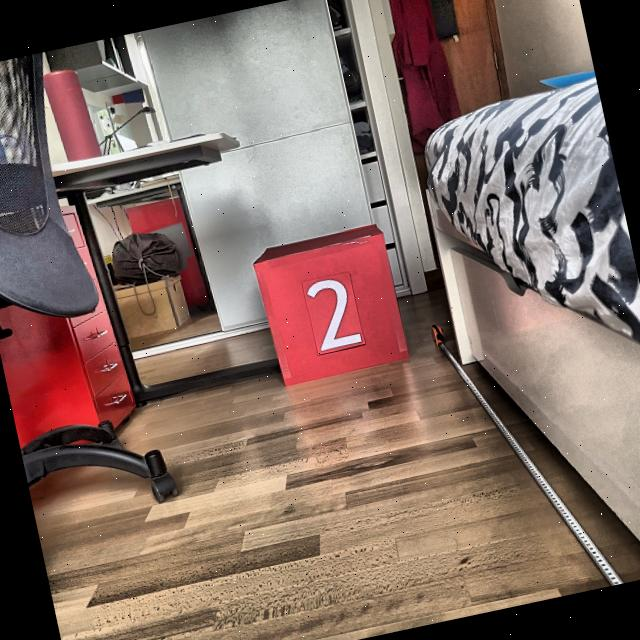red box: (254, 226, 407, 383)
two: (304, 271, 364, 354)
